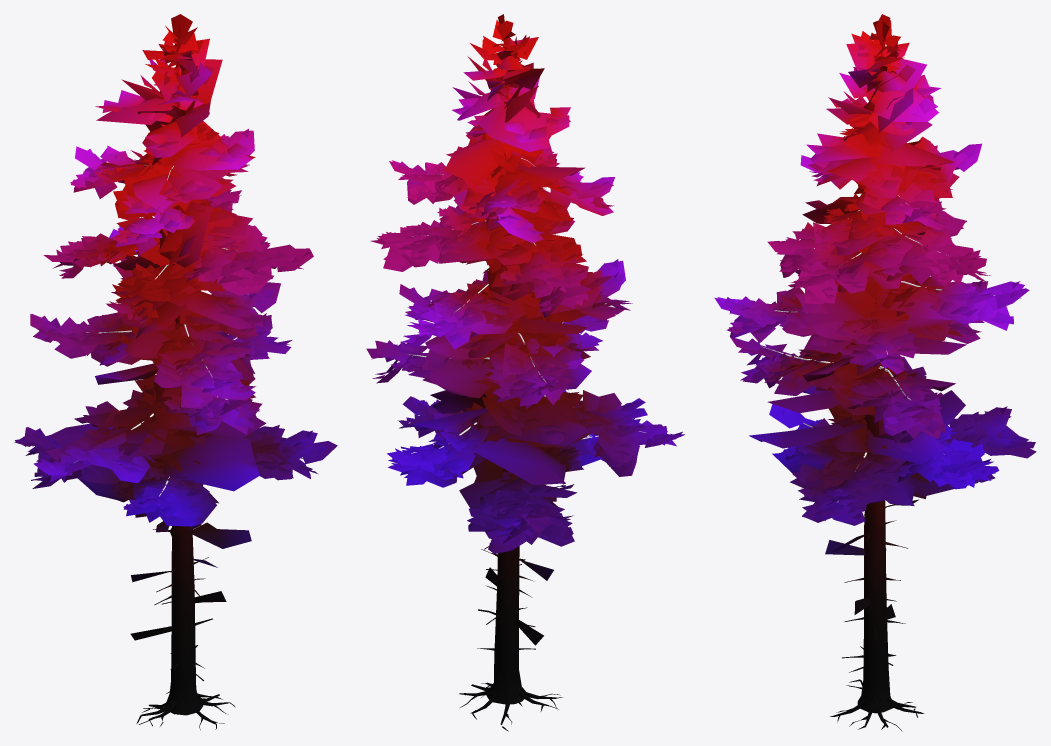
The model's file is Fir02.fbx.
The picture shows the model from 3 angles, left to right: view 1: azimuth 30°, elevation 25°; view 2: azimuth 150°, elevation 25°; view 3: azimuth 270°, elevation 25°; orthographic projection.
Visible parts, largest first — view 1: Fir02_LOD0; view 2: Fir02_LOD0; view 3: Fir02_LOD0.
Part boxes in pixels (x1=…): Fir02_LOD0: x1=14, y1=14, x2=337, y2=730; Fir02_LOD0: x1=366, y1=14, x2=684, y2=731; Fir02_LOD0: x1=714, y1=14, x2=1036, y2=731.
Size of what is drawn, in the model's own units: 878 by 2041 by 846.
